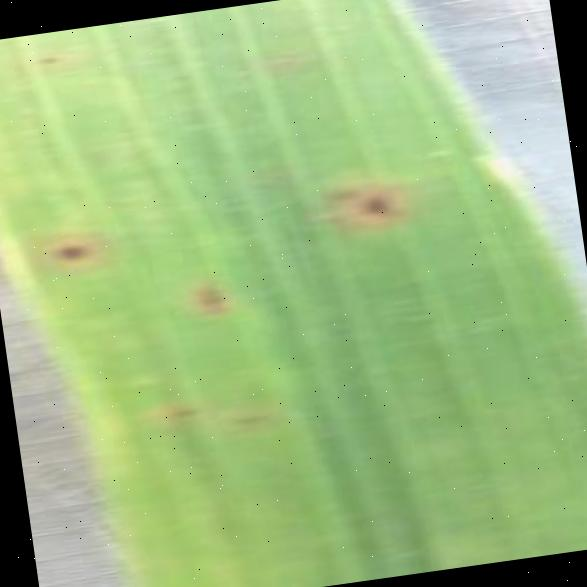Brown_Spot: (32, 224, 106, 276), (174, 268, 240, 325), (338, 180, 403, 227), (222, 398, 280, 438), (310, 171, 362, 210), (159, 395, 207, 427), (24, 43, 68, 72)
